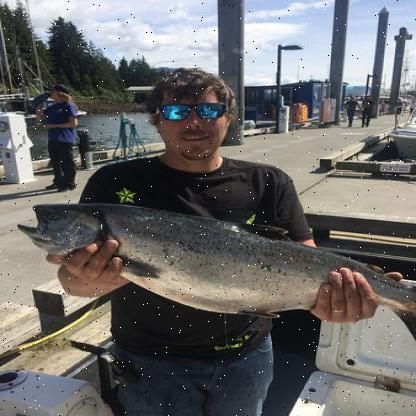fish: (11, 200, 415, 340)
